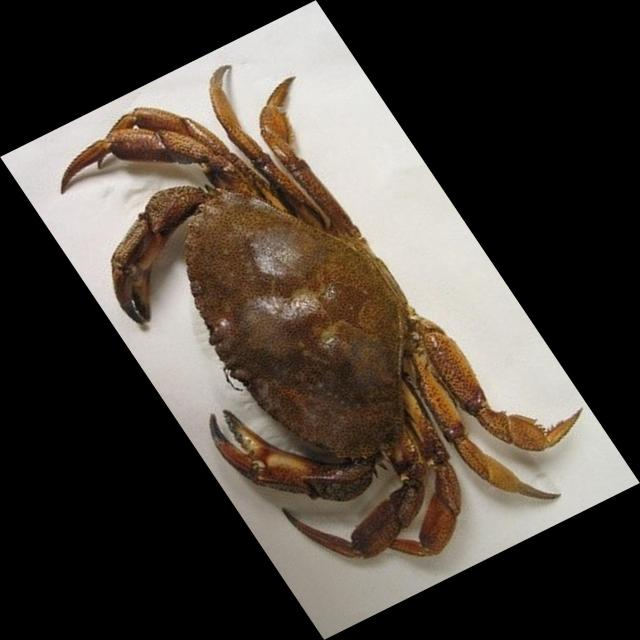Native Rock crab: (61, 65, 580, 558)
